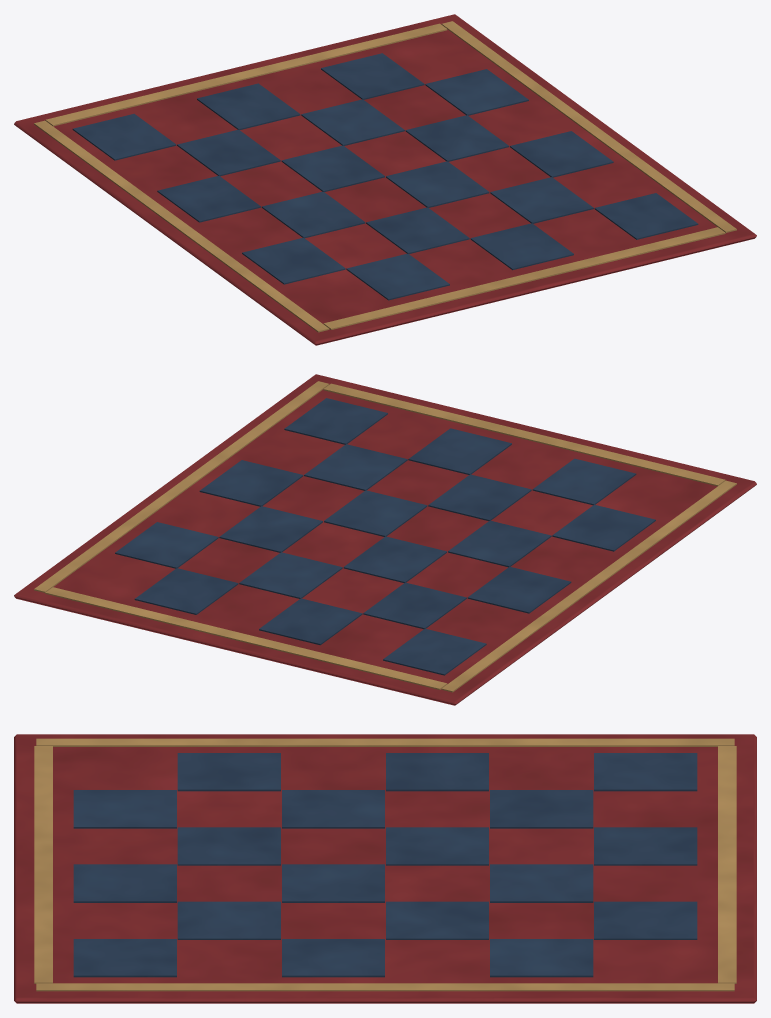
File: Furn_TerraceRug.fbx
3 renders of one model, top to bottom at view 1: azimuth 30°, elevation 25°; view 2: azimuth 150°, elevation 25°; view 3: azimuth 270°, elevation 25°, orthographic. The views are drawn at different scales.
Parts seen in each view (by area): view 1: Furn_TerraceRug_Mesh; view 2: Furn_TerraceRug_Mesh; view 3: Furn_TerraceRug_Mesh.
Boxes of the visible parts, x1,y1,x2,y2 form: Furn_TerraceRug_Mesh: (14, 14, 756, 345); Furn_TerraceRug_Mesh: (14, 374, 756, 705); Furn_TerraceRug_Mesh: (14, 734, 756, 1003).
Size of the model in its own units: 2.2 by 0.03 by 2.6.
3 materials, 3 textured.
